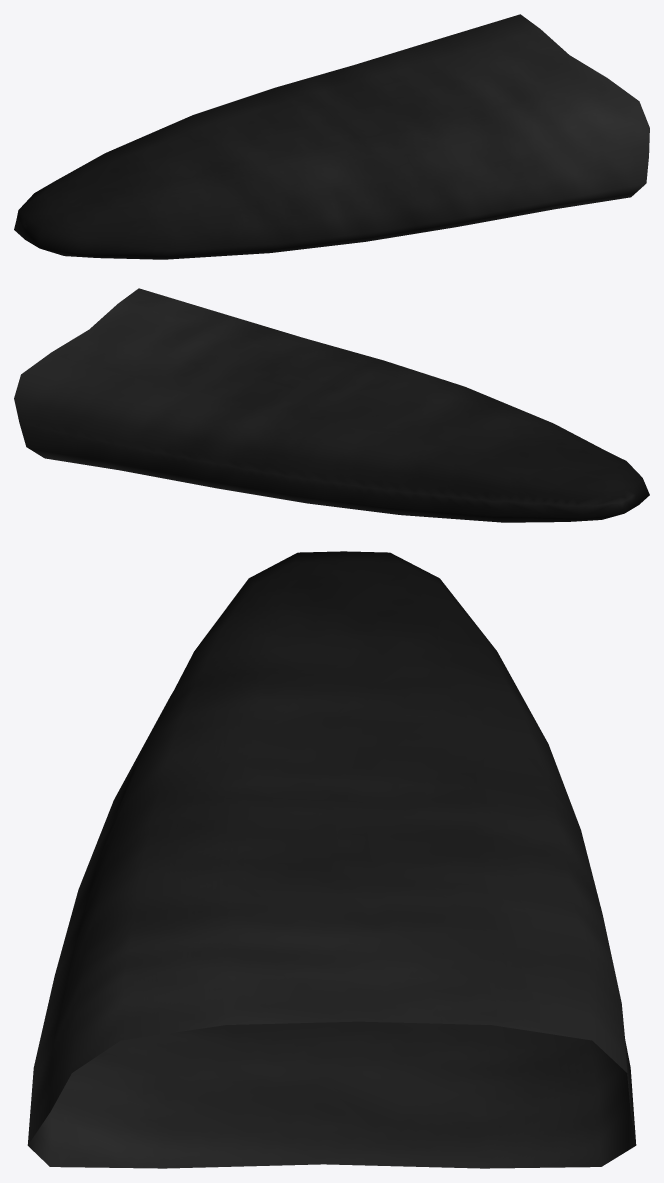
The model's file is AletaDerecha.obj.
3 views of the same model, one above another, from view 1: azimuth 30°, elevation 25°; view 2: azimuth 150°, elevation 25°; view 3: azimuth 270°, elevation 25° (orthographic). The views are drawn at different scales.
Visible parts, largest first — view 1: AletaDerecha; view 2: AletaDerecha; view 3: AletaDerecha.
Boxes of the visible parts, x1,y1,x2,y2 form: AletaDerecha: (14,14,649,259); AletaDerecha: (14,288,649,522); AletaDerecha: (27,551,636,1168).
Bounding box in the file's own units: 5.55 × 0.8366 × 2.64.
1 material, 1 textured.
